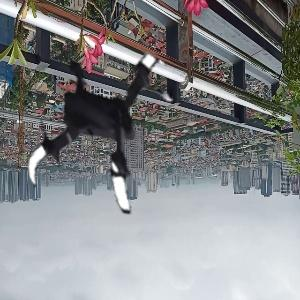drone: (5, 22, 203, 220)
